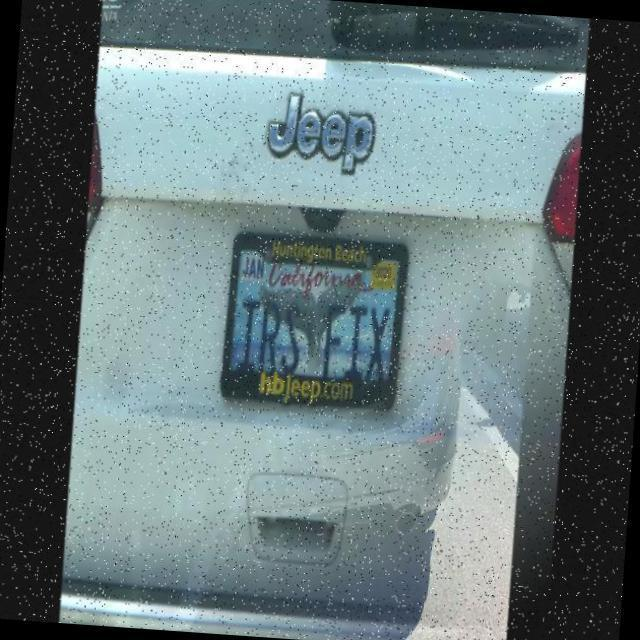license_plate: (218, 231, 414, 415)
